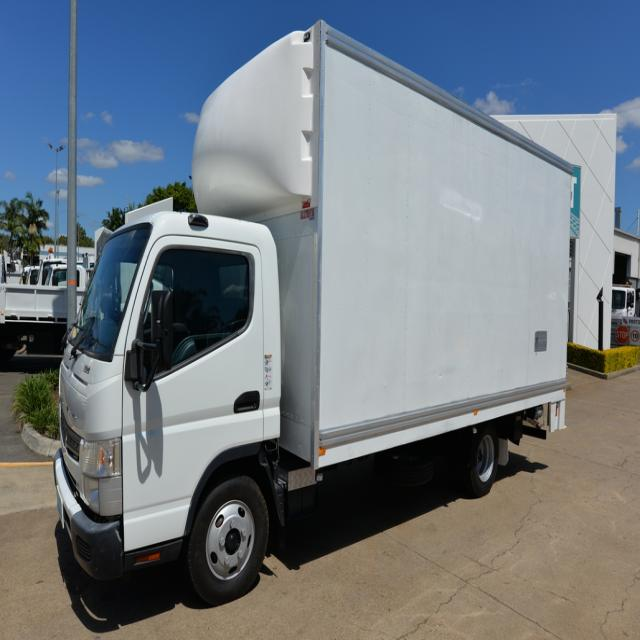car: (53, 17, 575, 601)
